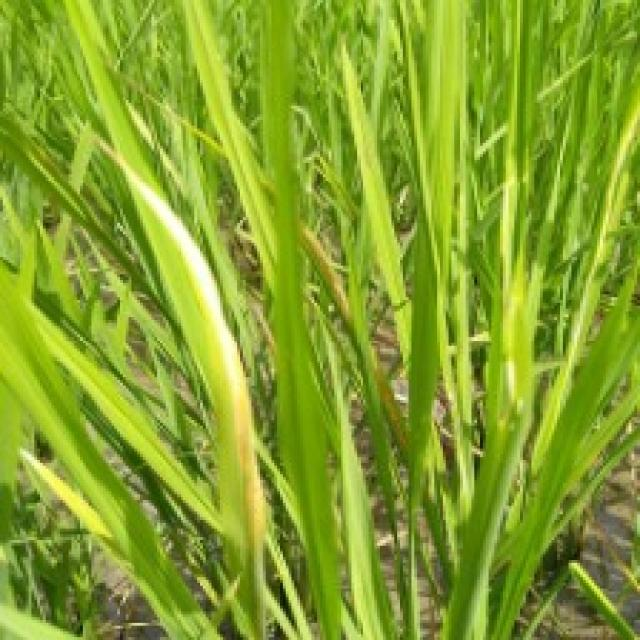Rice___Bacterial_Leaf_Blight: (89, 132, 268, 637)
